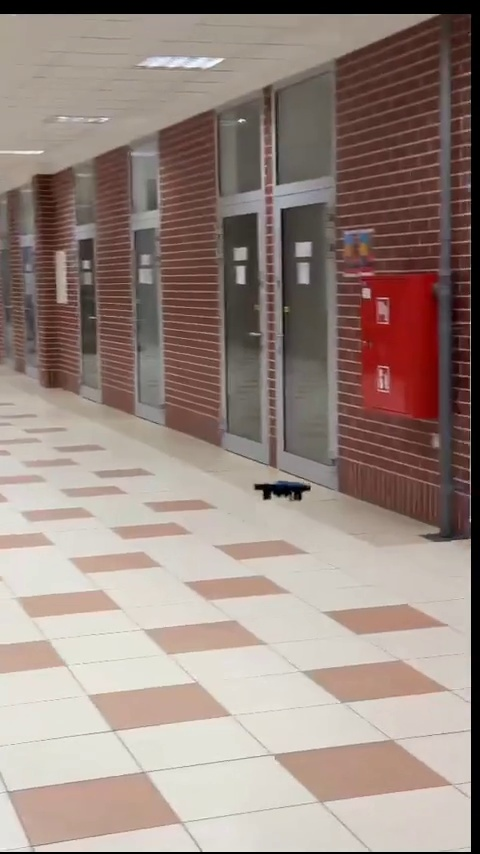drone: (251, 476, 313, 506)
